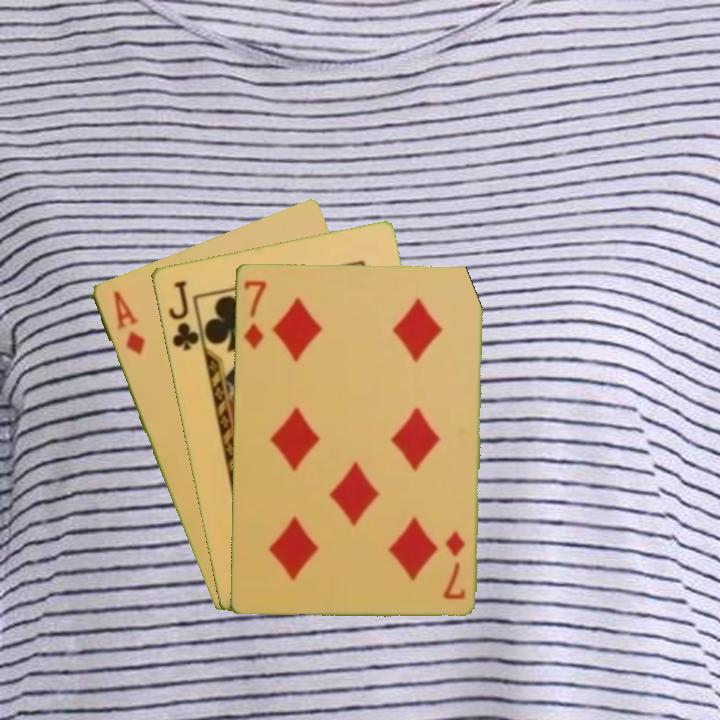7d: (240, 276, 269, 352), (439, 527, 468, 602)
Ad: (109, 287, 148, 358)
Jc: (164, 276, 202, 353)
